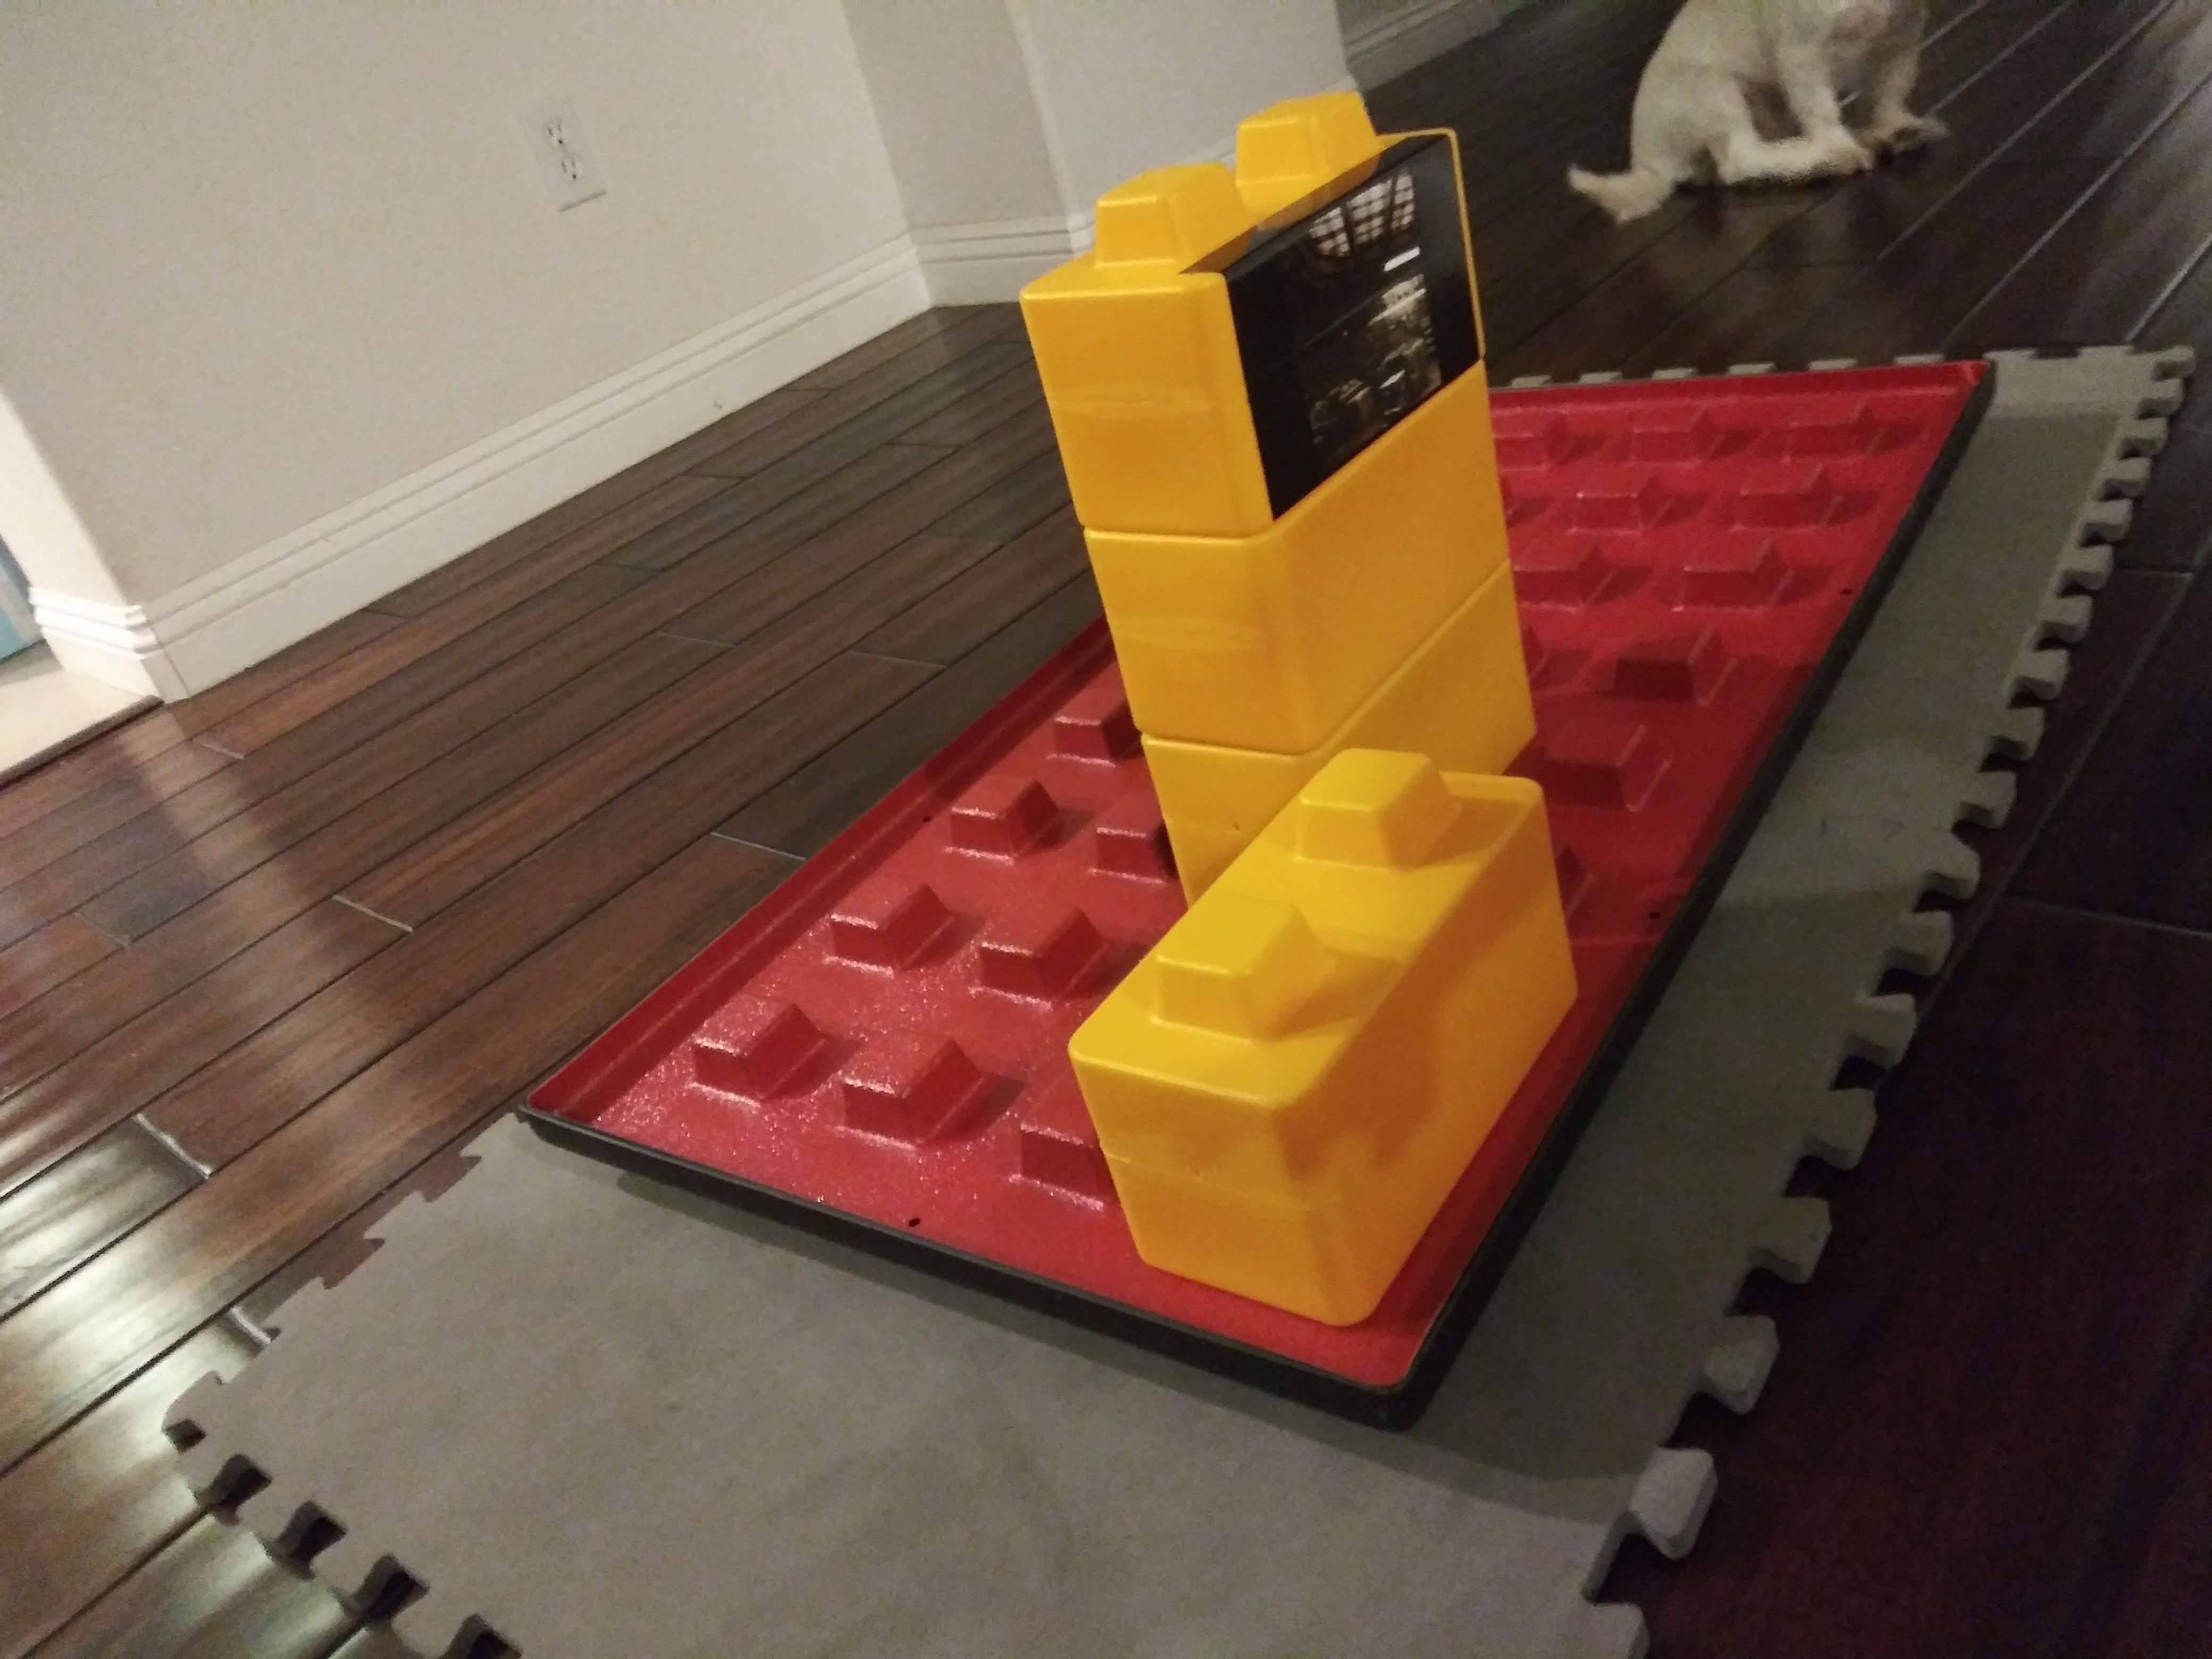red foundation: (711, 362, 1874, 1291)
